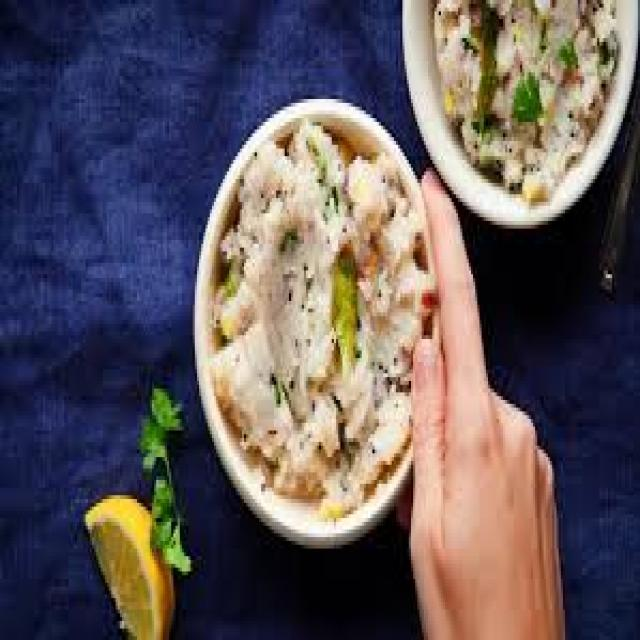UPMA: (210, 114, 435, 510), (435, 0, 619, 194)
